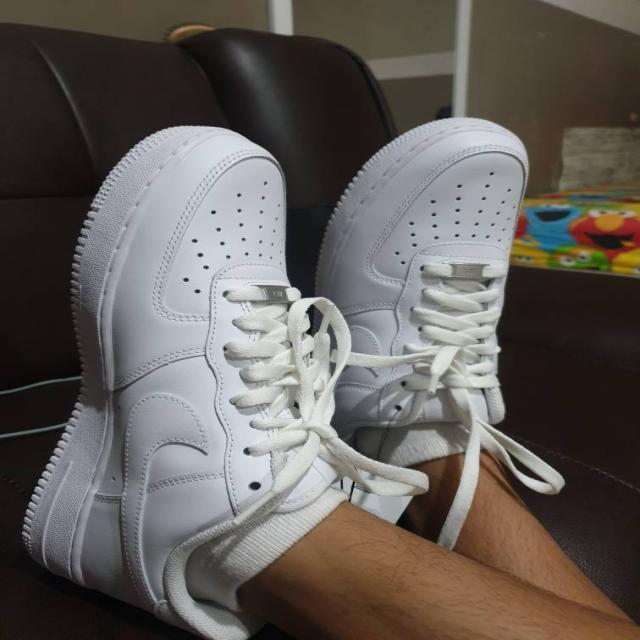nike original air force: (16, 120, 352, 636), (318, 116, 536, 505)
